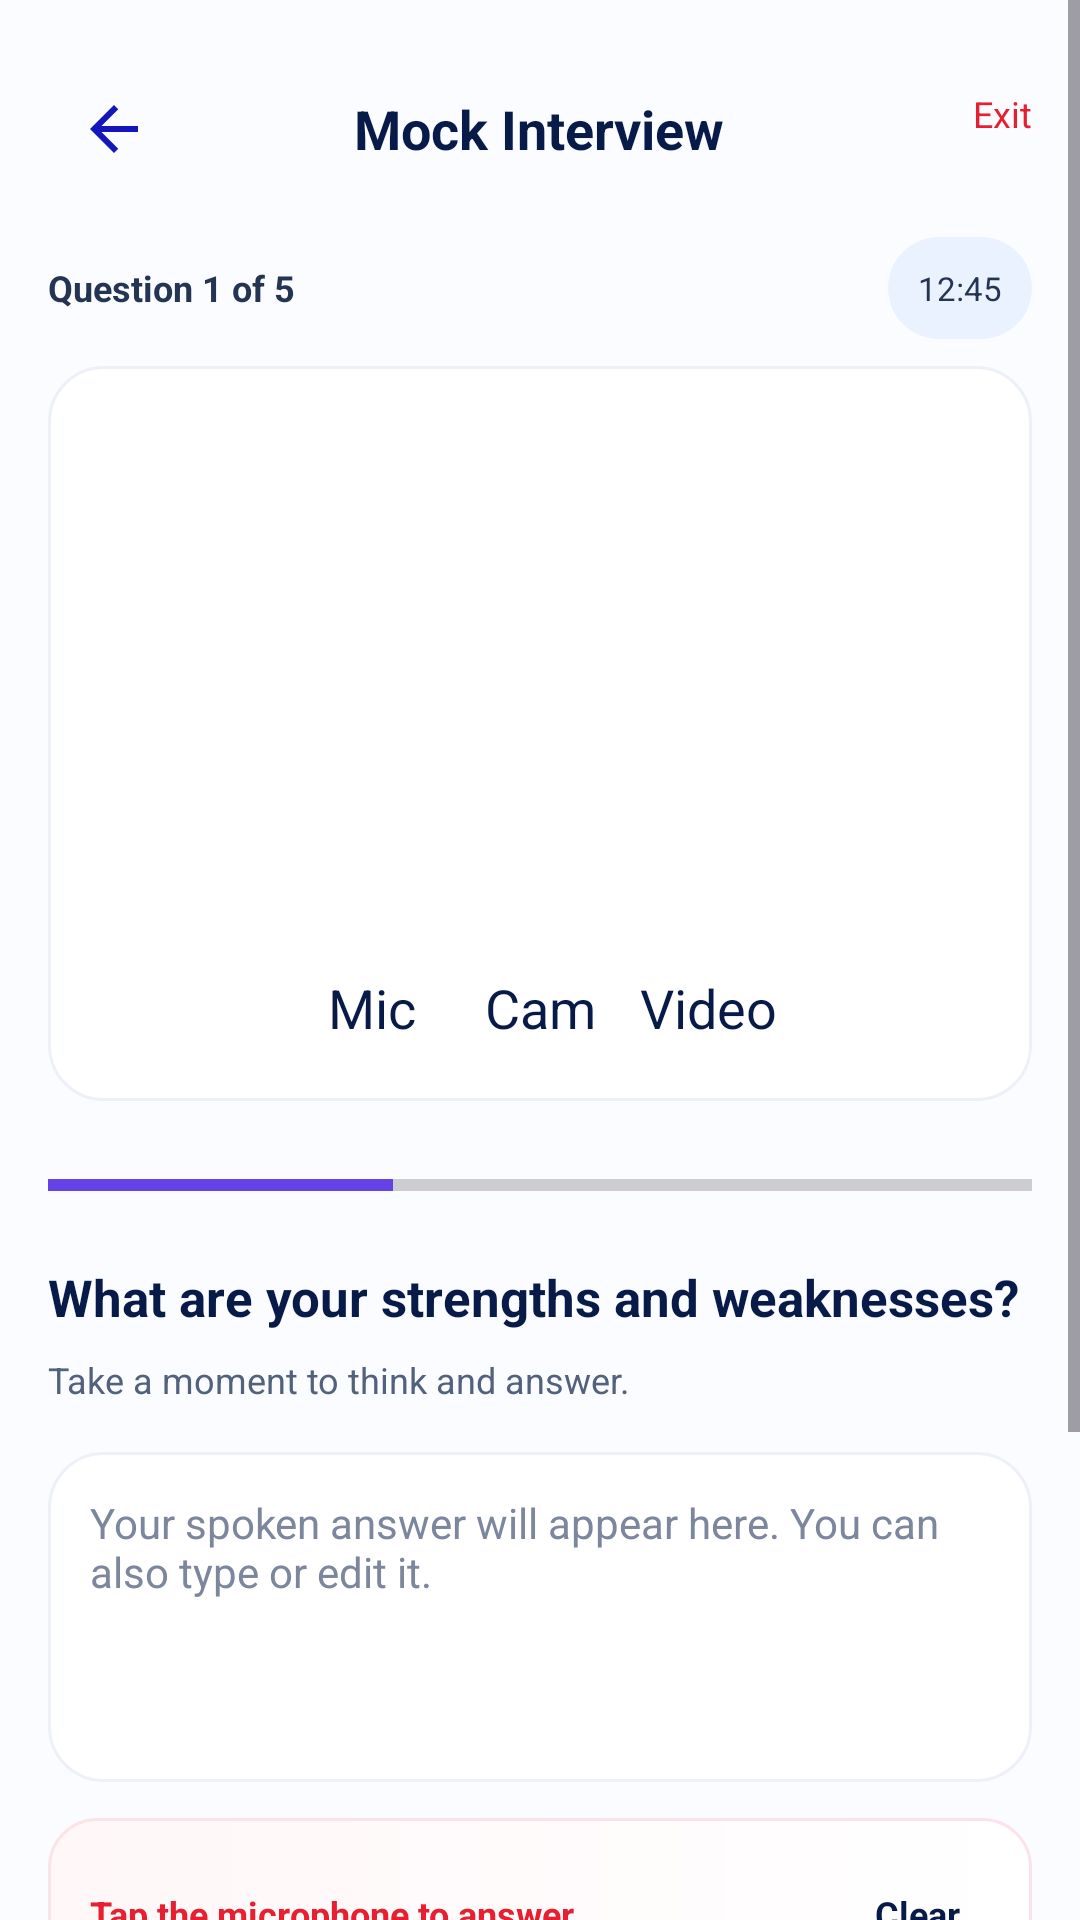

Screen size 1080×1920. Icon name, then its center in pixels as (x,y):
Back: (114,129)
